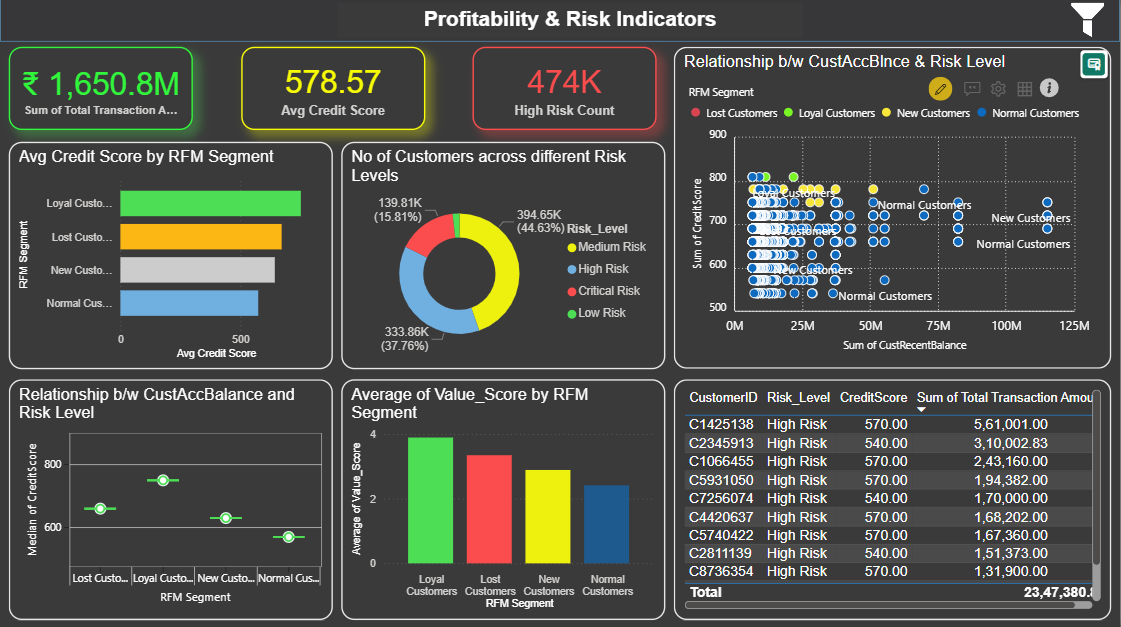

Layout of this report page (visuals, bound fields, positions):
{"tool":"powerbi","page":{"name":"Report-4","canvas":[1280,720],"ordinal":3},"visuals":[{"type":"card","fields":{"Values":["Sum(Grouped Data of customer.Total Transaction Amount)"]},"box":[10,55,210,95],"z":0},{"type":"card","fields":{"Values":["Grouped Data of customer.Avg Credit Score"]},"box":[275,55,210,95],"z":1000},{"type":"card","fields":{"Values":["Grouped Data of customer.High Risk Count"]},"box":[540,55,210,95],"z":2000},{"type":"clusteredBarChart","fields":{"Category":["Grouped Data of customer.RFM Segment"],"Y":["Grouped Data of customer.Avg Credit Score"]},"box":[10,165,370,260],"z":3000},{"type":"donutChart","title":"No of Customers across different Risk Levels","fields":{"Category":["Grouped Data of customer.Risk_Level"],"Y":["CountNonNull(Grouped Data of customer.CustomerID)"]},"box":[390,165,370,260],"z":4000},{"type":"BoxandWhiskerByMAQ1823AD39DT234AB532063E128AX","title":"Relationship b/w CustAccBalance and Risk Level","fields":{"category":["Grouped Data of customer.RFM Segment"],"categoryGroup":["Grouped Data of customer.RFM Segment"],"measure":["Median(Grouped Data of customer.CreditScore)"],"tooltipData":["CountNonNull(Grouped Data of customer.CustomerID)","Avg(Grouped Data of customer.CreditScore)1"]},"box":[10,435,370,275],"z":5000},{"type":"columnChart","fields":{"Category":["Grouped Data of customer.RFM Segment"],"Y":["Avg(Grouped Data of customer.Value_Score)"]},"box":[390,435,370,275],"z":7000},{"type":"tableEx","fields":{"Values":["Grouped Data of customer.CustomerID","Grouped Data of customer.Risk_Level","Grouped Data of customer.CreditScore","Sum(Grouped Data of customer.Total Transaction Amount)"]},"box":[770,435,500,275],"z":8000},{"type":"shape","box":[0,0,1280,50],"z":9000},{"type":"textbox","box":[385,5,531.7,40],"z":10000},{"type":"image","box":[1217.8,0,52.2,50],"z":10250},{"type":"actionButton","title":"Filter Button","box":[1217.8,0,52.2,50],"z":10500},{"type":"performanceBubbleChartFBAAA829CB604E5CAB4F21729F233294","title":"Relationship b/w CustAccBlnce & Risk Level","fields":{"xmeasure":["Sum(Grouped Data of customer.CustRecentBalance)"],"ymeasure":["Sum(Grouped Data of customer.CreditScore)"],"legend":["Grouped Data of customer.RFM Segment"],"category":["Grouped Data of customer.CustomerID"]},"box":[770,55,500,368],"z":11001}]}

Visuals, with their boxes in screenshot pixels (x1, y1, x2, y2), scaled from the page's 1280x720 canvas onto the 1121x627 screenshot:
card - Sum(Grouped Data of customer.Total Transaction Amount): {"x1": 9, "y1": 48, "x2": 193, "y2": 131}
card - Grouped Data of customer.Avg Credit Score: {"x1": 241, "y1": 48, "x2": 425, "y2": 131}
card - Grouped Data of customer.High Risk Count: {"x1": 473, "y1": 48, "x2": 657, "y2": 131}
clusteredBarChart - Grouped Data of customer.RFM Segment x Grouped Data of customer.Avg Credit Score: {"x1": 9, "y1": 144, "x2": 333, "y2": 370}
"No of Customers across different Risk Levels" donutChart: {"x1": 342, "y1": 144, "x2": 666, "y2": 370}
"Relationship b/w CustAccBalance and Risk Level" BoxandWhiskerByMAQ1823AD39DT234AB532063E128AX: {"x1": 9, "y1": 379, "x2": 333, "y2": 618}
columnChart - Grouped Data of customer.RFM Segment x Avg(Grouped Data of customer.Value_Score): {"x1": 342, "y1": 379, "x2": 666, "y2": 618}
tableEx - Grouped Data of customer.CustomerID x Grouped Data of customer.Risk_Level: {"x1": 674, "y1": 379, "x2": 1112, "y2": 618}
shape: {"x1": 0, "y1": 0, "x2": 1120, "y2": 44}
textbox: {"x1": 337, "y1": 4, "x2": 803, "y2": 39}
image: {"x1": 1067, "y1": 0, "x2": 1112, "y2": 44}
"Filter Button" actionButton: {"x1": 1067, "y1": 0, "x2": 1112, "y2": 44}
"Relationship b/w CustAccBlnce & Risk Level" performanceBubbleChartFBAAA829CB604E5CAB4F21729F233294: {"x1": 674, "y1": 48, "x2": 1112, "y2": 368}
